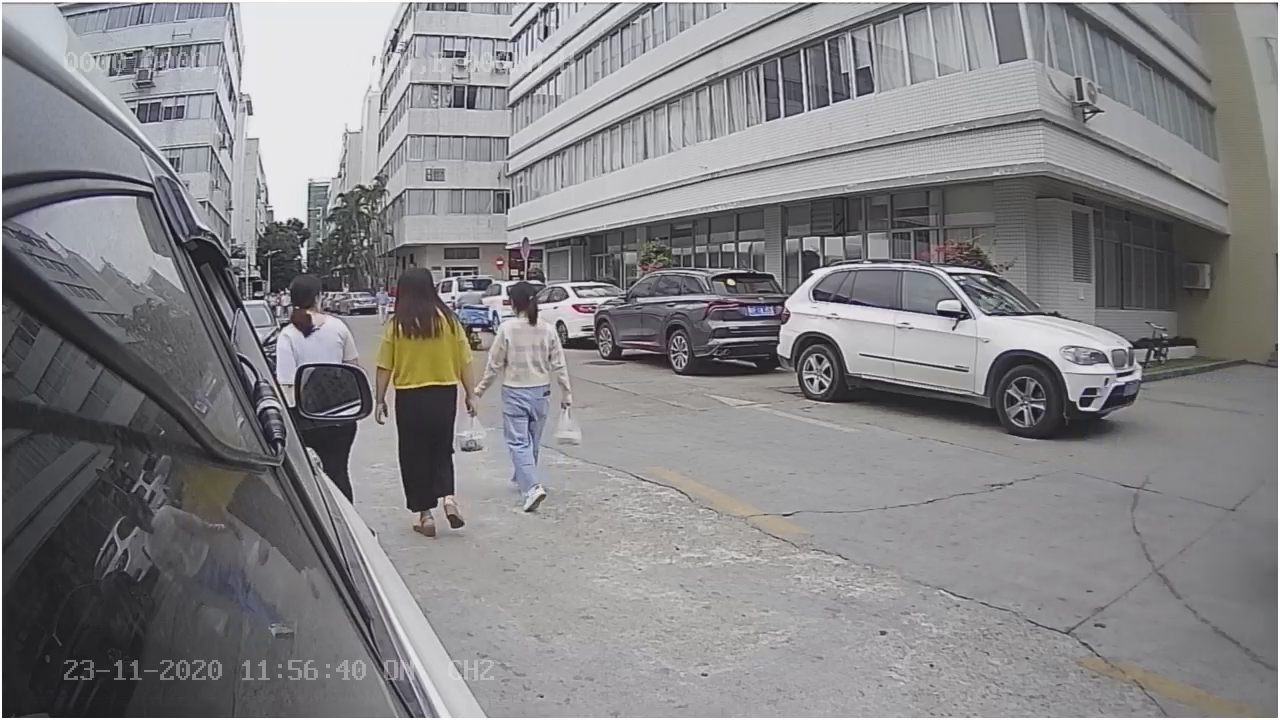person: (365, 260, 486, 542), (471, 281, 588, 517), (275, 268, 364, 360)
